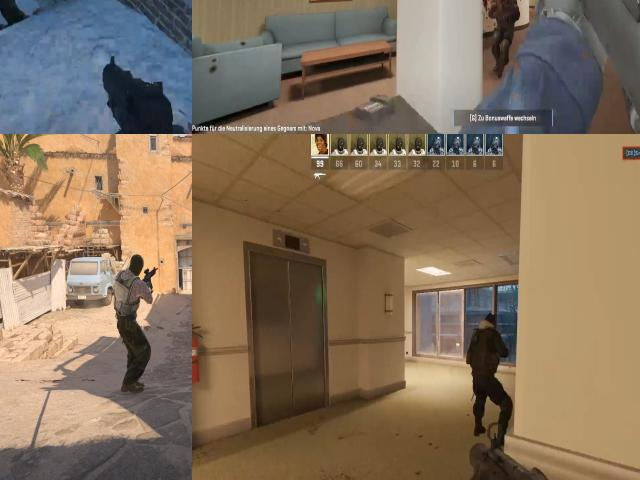CT: (468, 305, 504, 393), (481, 309, 501, 337)
Dead: (489, 0, 519, 76), (0, 0, 27, 46)
T: (115, 253, 151, 381)
T-Head: (127, 253, 146, 281)
